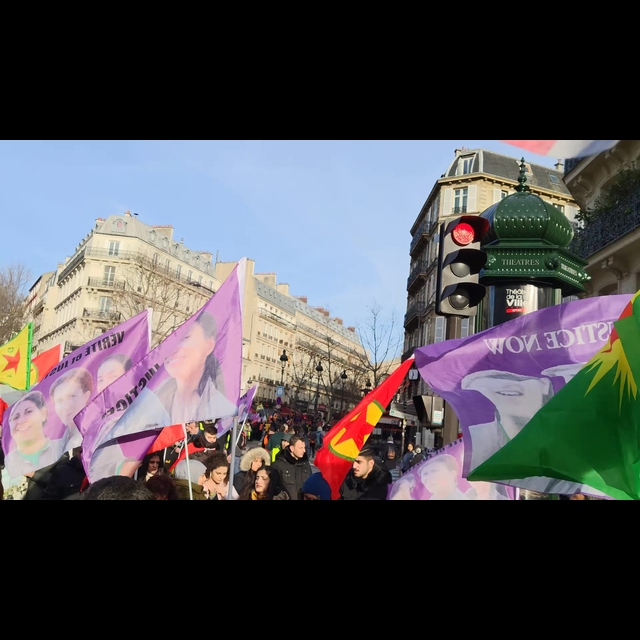YPG: (1, 315, 36, 390)
